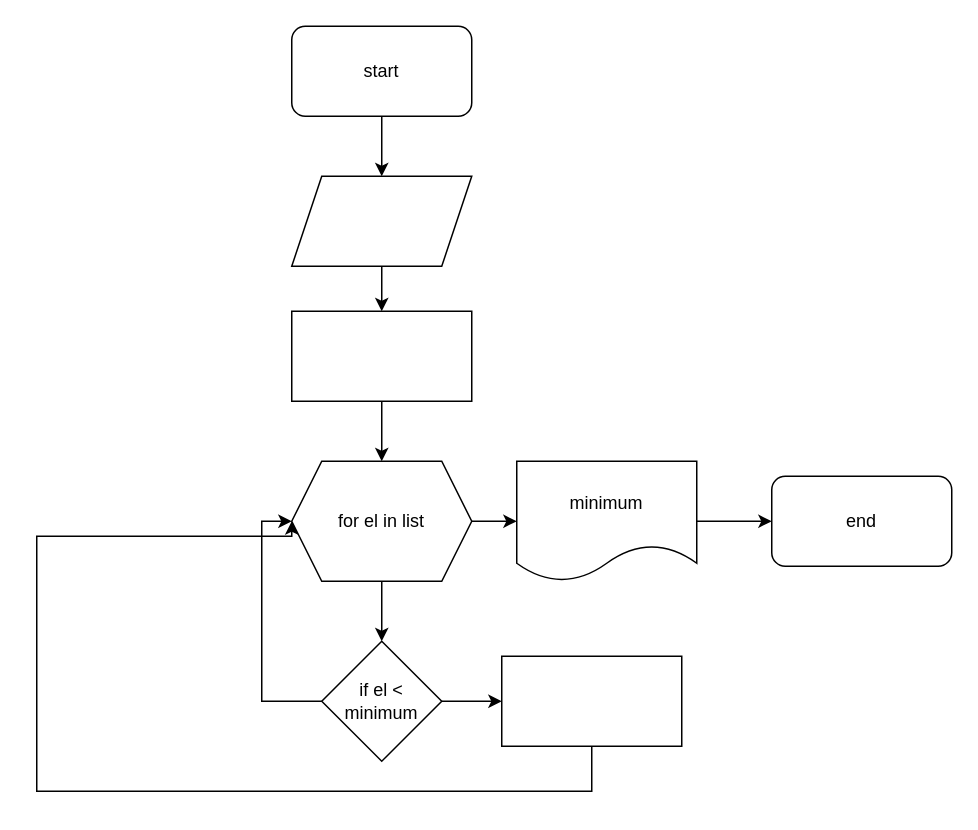
Some shapes in this 978 by 830 pixel diagram are drawn without their labels. Each missing label, with the centre of its shape:
"lst[int]" goes at pixel 381 220.
"minimum = el" goes at pixel 591 700.
"minimum = lst[0]" goes at pixel 381 355.
